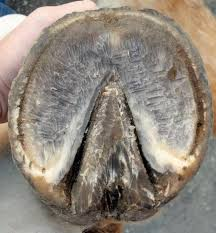horsesole: (7, 5, 212, 207)
